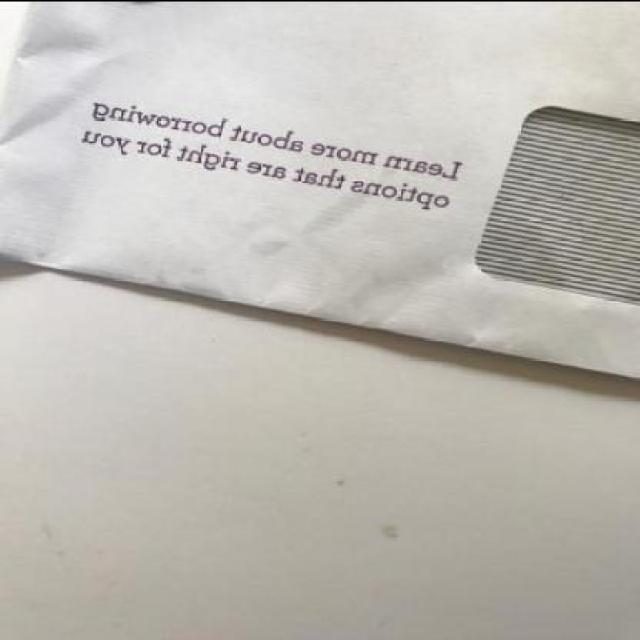paper: (0, 1, 638, 376)
